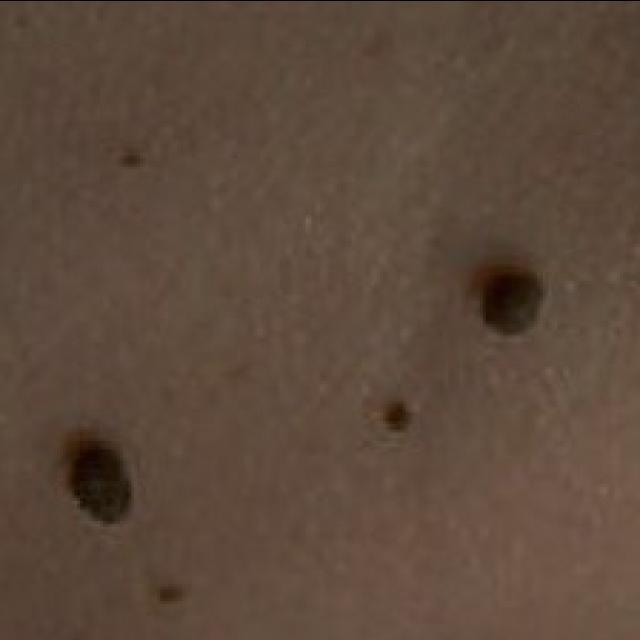wart: (28, 408, 152, 552), (449, 228, 557, 366), (94, 123, 182, 203), (357, 366, 423, 454)
